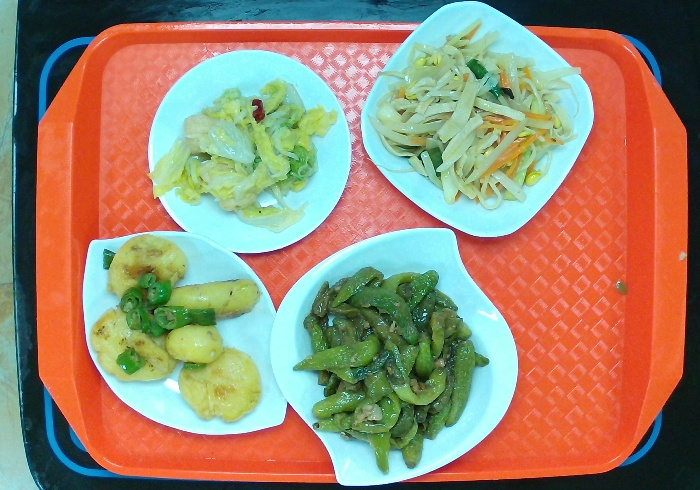RJxy-Da_Du_Pan: (79, 228, 290, 439)
RJxy-Shuang_Jiao_Pan: (268, 223, 527, 490)
RJxy-Si_Fang_Wan: (355, 1, 600, 242)
RJxy-Xiao_Yuan_Die: (141, 47, 355, 259)
